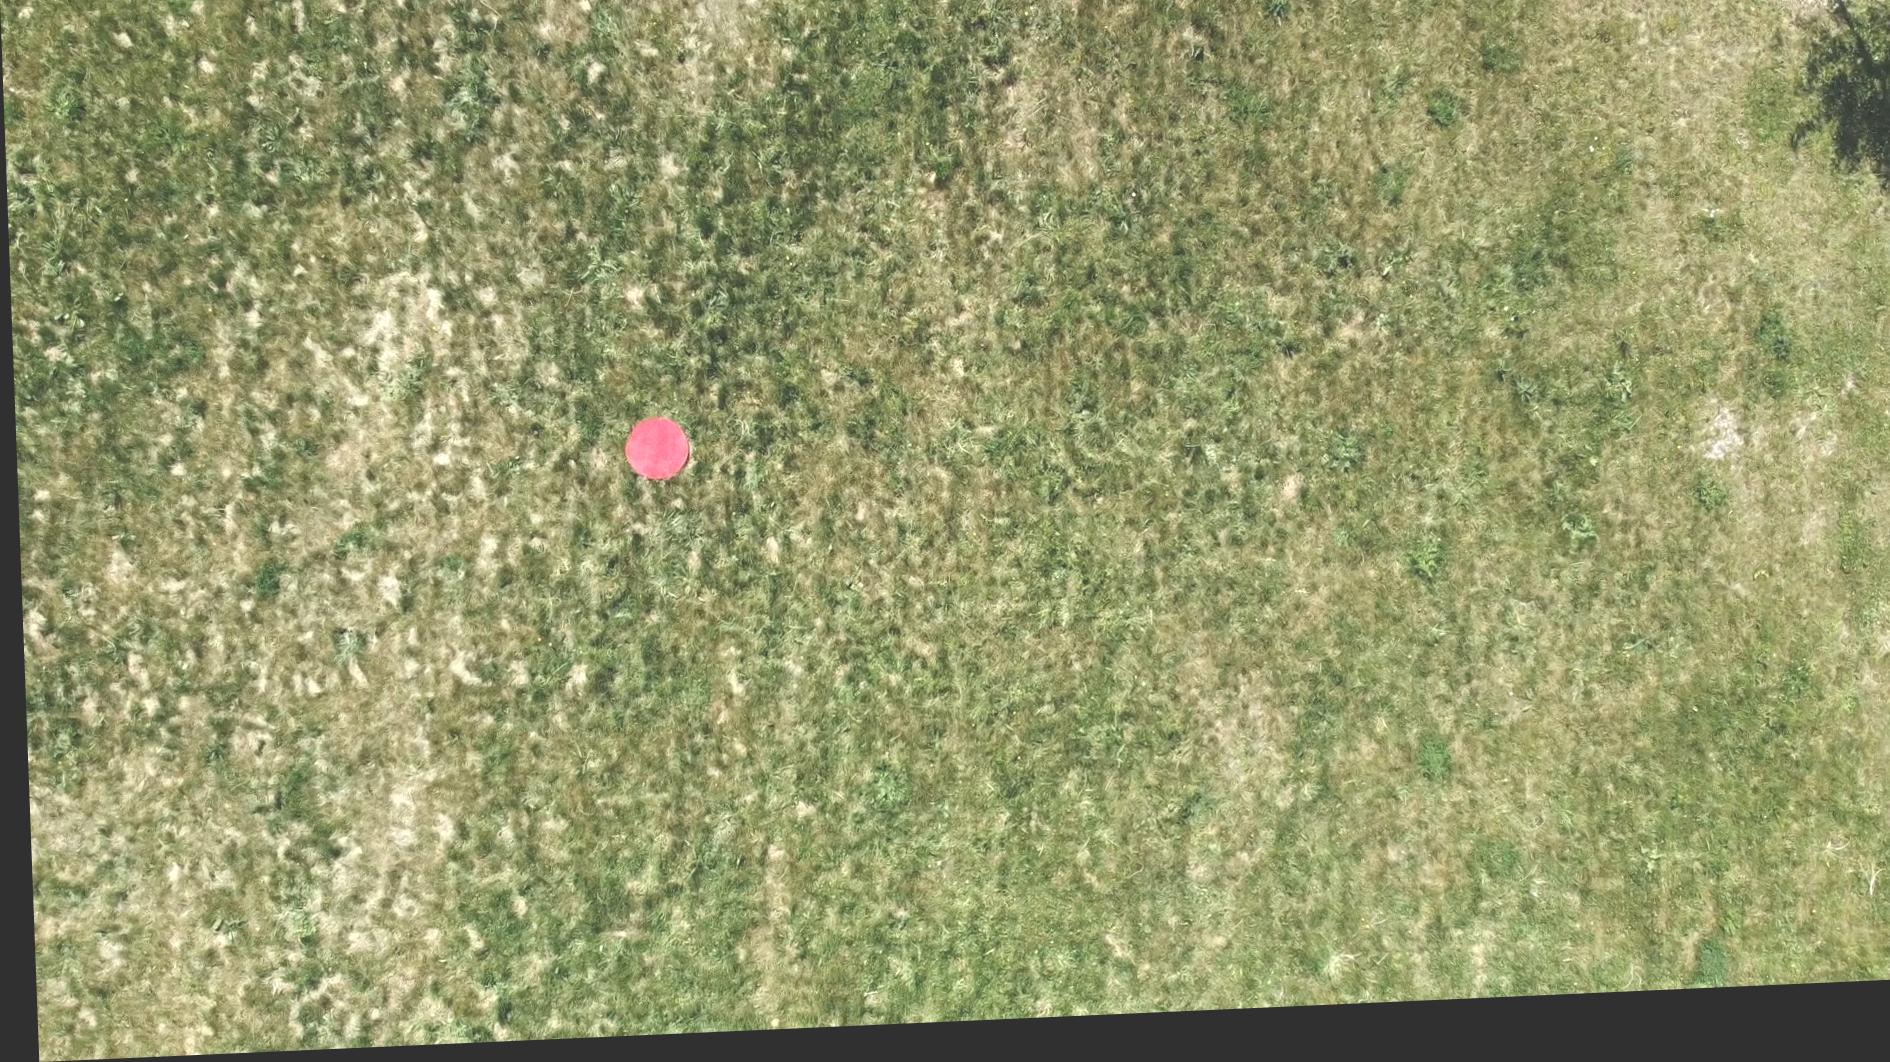Red: (619, 421, 688, 489)
